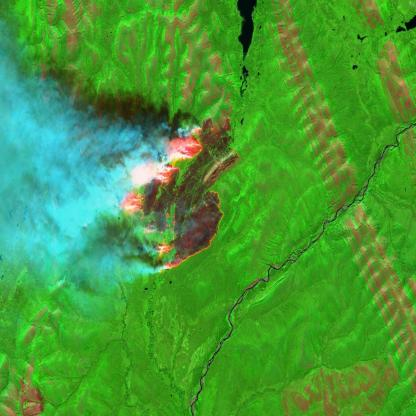fire: (117, 126, 227, 276)
